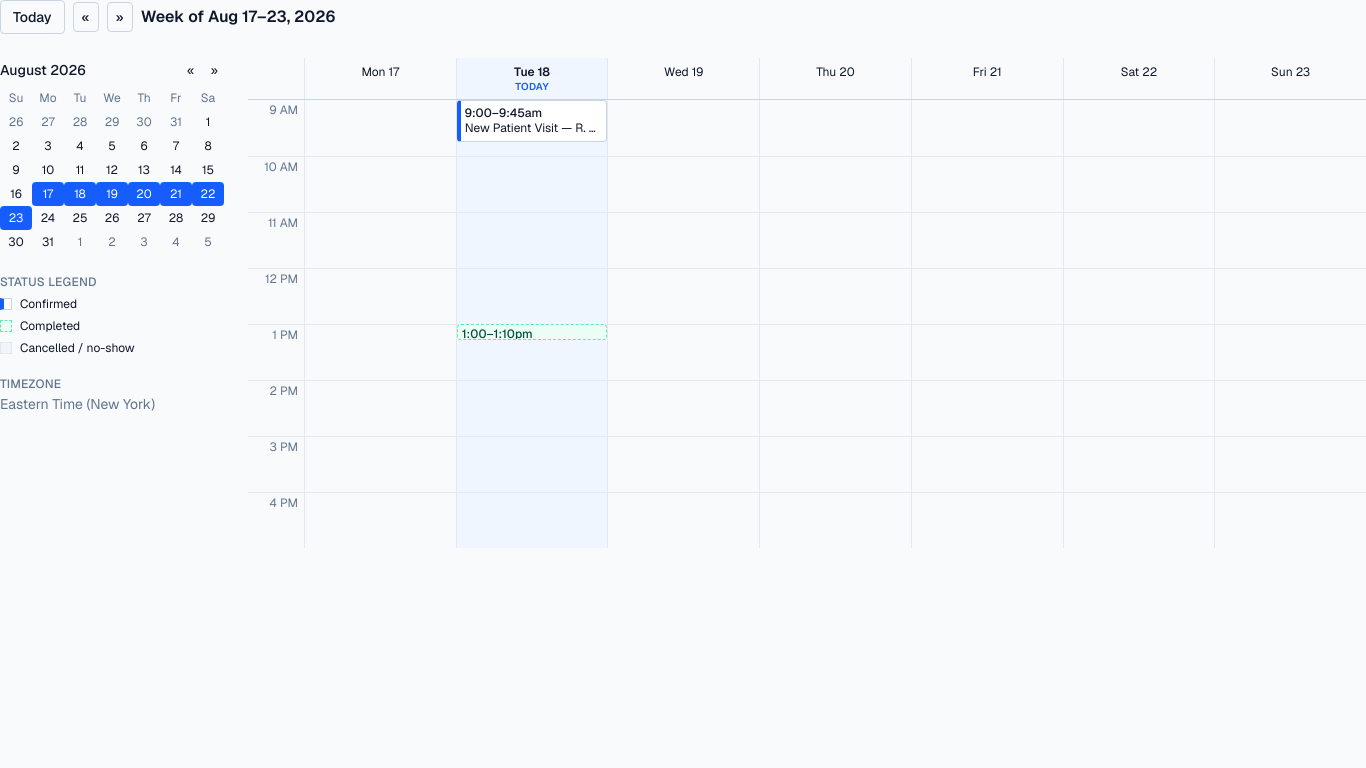
Test case: ProviderCalendar › opens a detail popover with the role-appropriate actions, and never a confirm/decline action
Click the button with aria-label "New Patient Visit with R. Nikov, 9:00–9:45am, CONFIRMED" at (532, 121), box [457, 100, 607, 142]
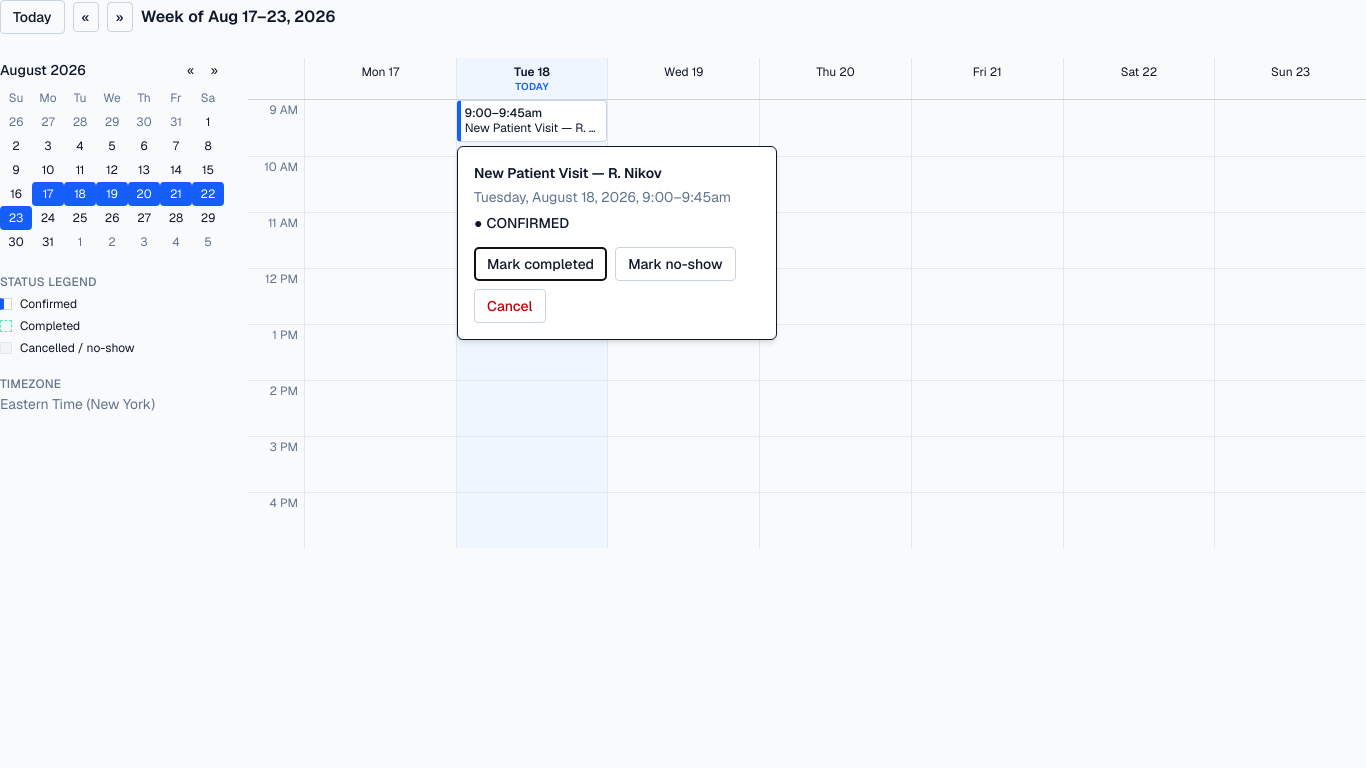
Expected: the text "CONFIRMED" is shown, [486, 214, 569, 232]
